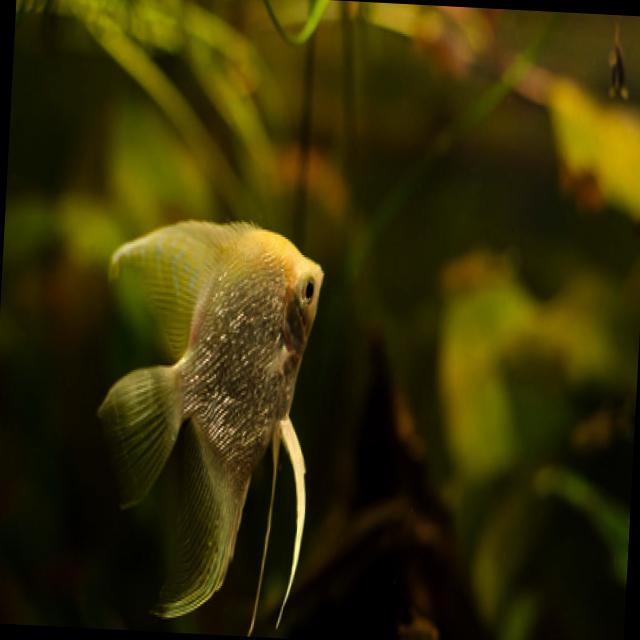AngelFish: (88, 216, 324, 633)
